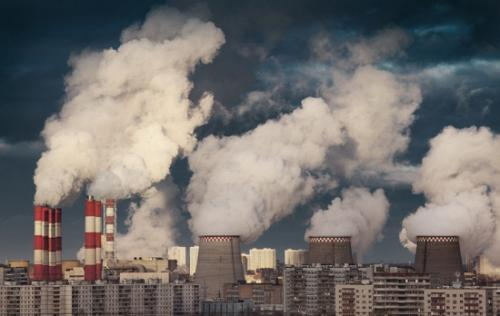dust: (59, 11, 207, 204), (174, 96, 335, 240), (28, 61, 80, 209), (303, 179, 390, 245), (397, 187, 487, 249)
